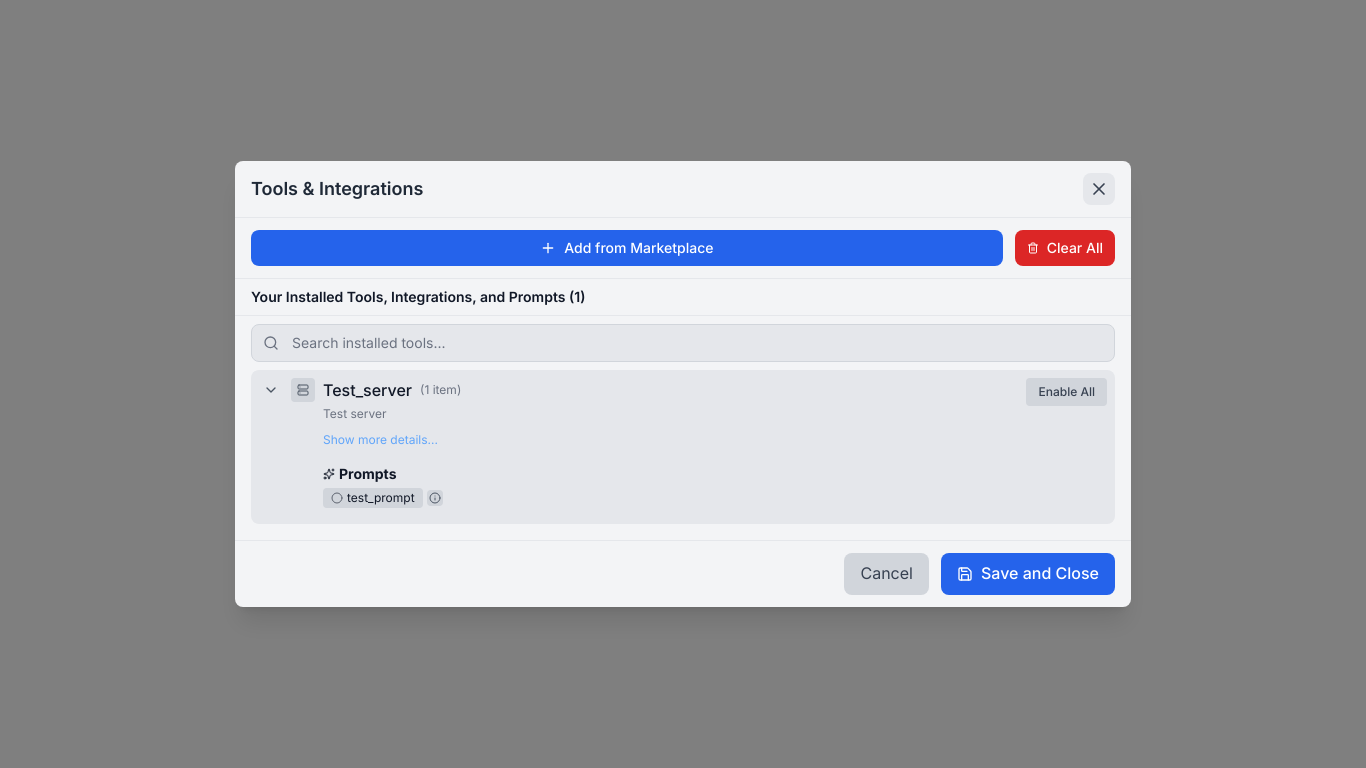
ToolsPanel - Custom Information Display › should collapse prompt description when info icon is clicked again
// Click to expand
Click the button titled "Show prompt description" at (435, 498), box [427, 490, 443, 506]
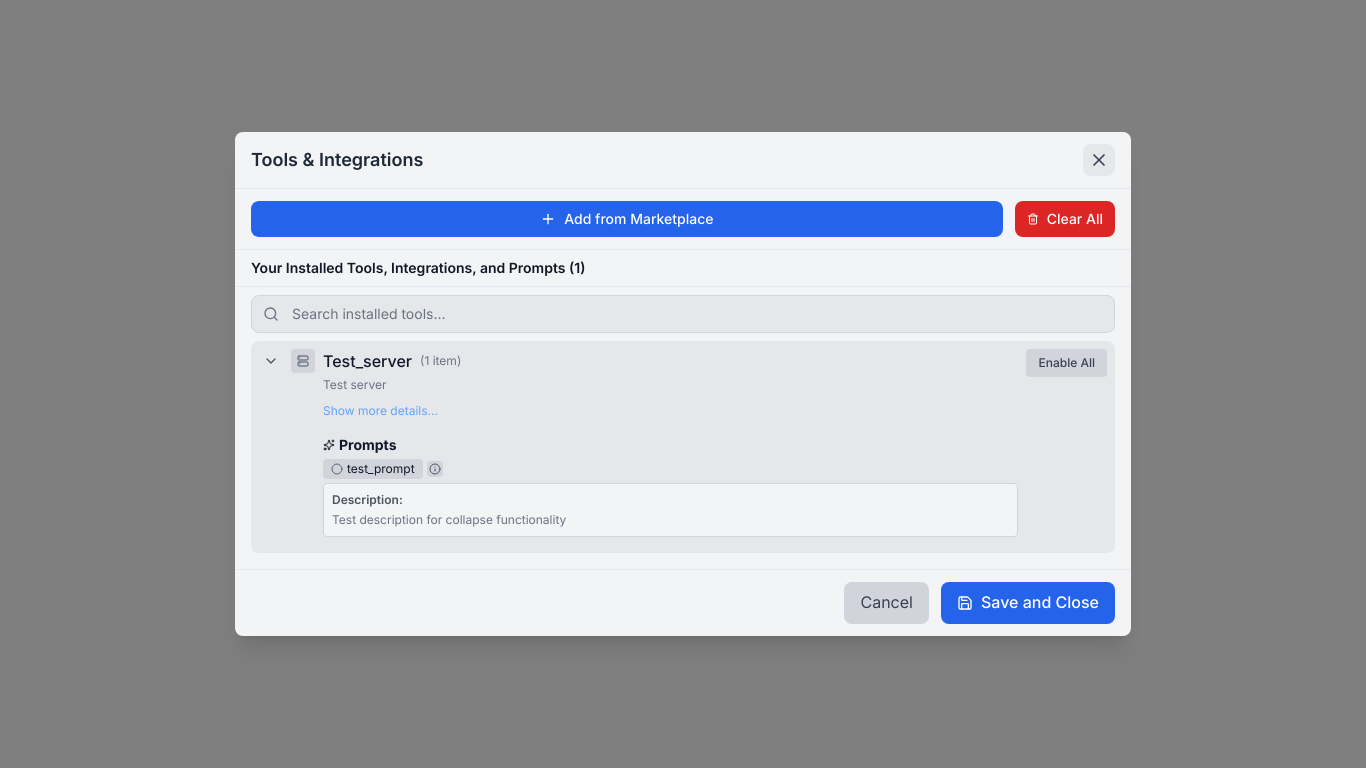
expect the text "Test description for collapse functionality" is shown: met, box [332, 512, 566, 527]
// Click again to collapse
Click the button titled "Show prompt description" at (435, 469), box [427, 461, 443, 477]
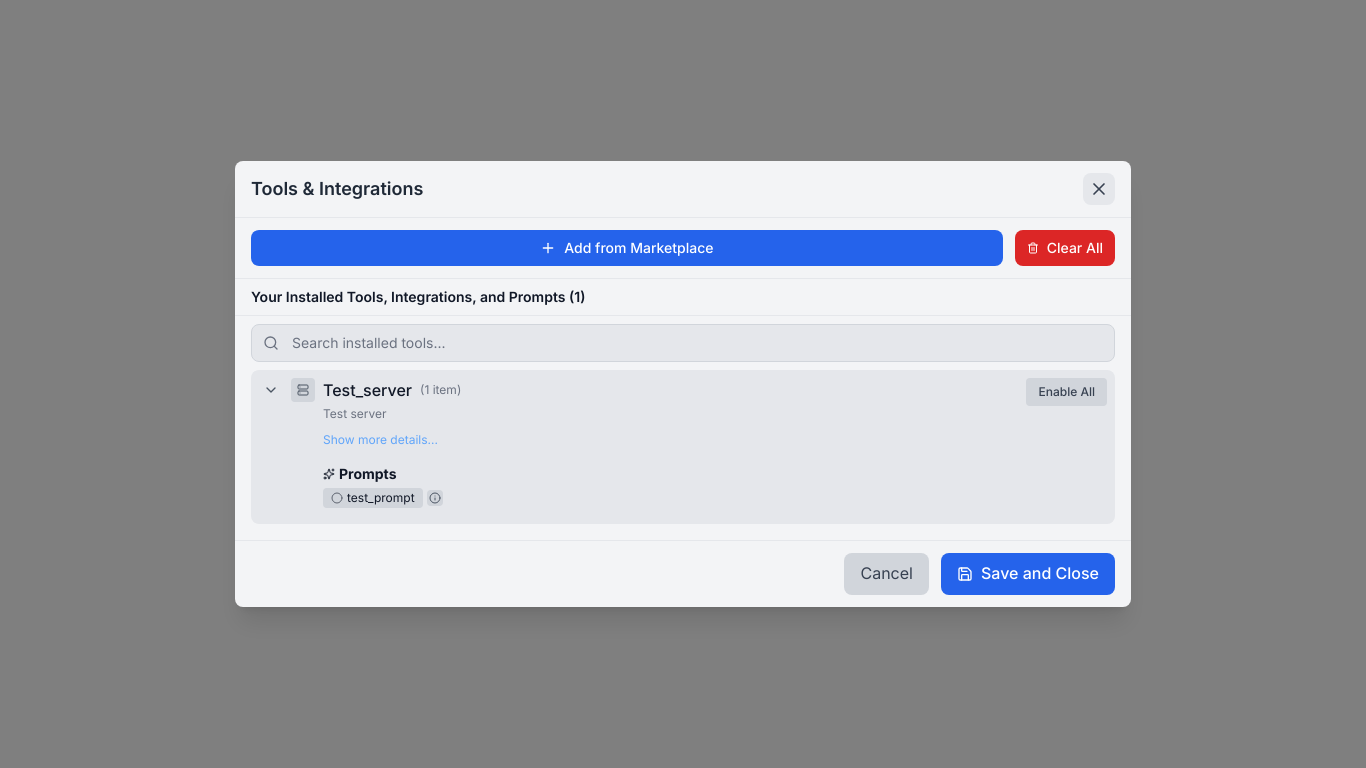
expect the text "Test description for collapse functionality" is gone: met
